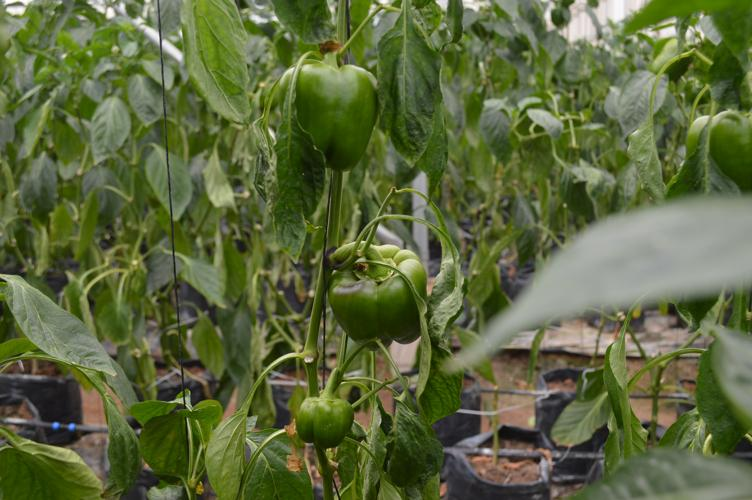BellPepper: (317, 245, 429, 344), (274, 66, 376, 169), (684, 114, 743, 187), (286, 399, 355, 453)
